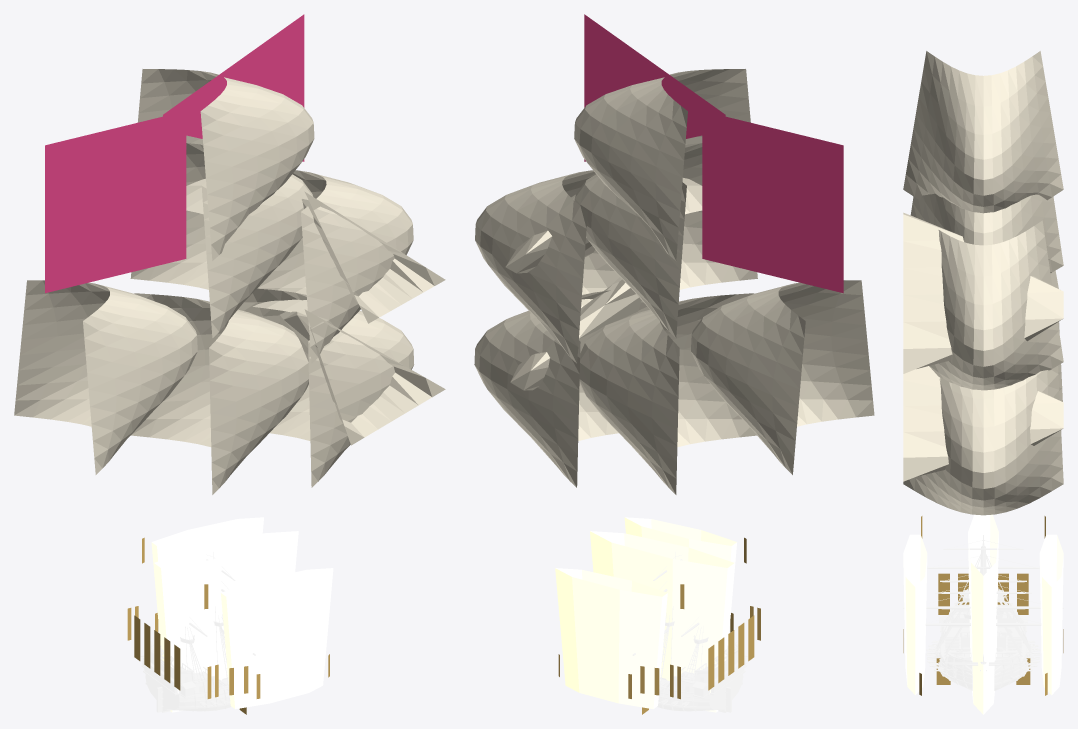
Rendered from navire-v5.glb.
3 renders of one model, left to right at view 1: azimuth 30°, elevation 25°; view 2: azimuth 150°, elevation 25°; view 3: azimuth 270°, elevation 25°, orthographic.
Visible parts, largest first — view 1: navire_lumieres, voile_artimon.004, drapeau.005, voile_grande.005, voile_perroquet.005, voile_misaine_hune.004, voile_misaine.005, voile_hune.005, flamme.005, voile_foc2.004, navire_corps.005, voile_foc.005 (+1 smaller); view 2: navire_lumieres, voile_artimon.004, drapeau.005, voile_grande.005, voile_perroquet.005, voile_misaine_hune.004, voile_misaine.005, voile_hune.005, flamme.005, navire_corps.005, voile_foc2.004, navire_vitres (+1 smaller); view 3: voile_perroquet.005, voile_misaine_hune.004, voile_misaine.005, navire_lumieres, voile_foc.005, navire_corps.005, voile_foc2.004, voile_hune.005, navire_vitres.
Part boxes in pixels (x1,y1,x2,y2): navire_lumieres: (151,517,333,712); voile_artimon.004: (14,280,197,474); drapeau.005: (45,111,186,293); voile_grande.005: (131,293,308,494); voile_perroquet.005: (137,69,314,260); voile_misaine_hune.004: (253,170,413,363); voile_misaine.005: (238,288,414,487); voile_hune.005: (130,143,313,337); flamme.005: (163,14,304,161); voile_foc2.004: (279,309,445,445); navire_corps.005: (140,552,255,712); voile_foc.005: (301,191,445,323); navire_lumieres: (555,517,736,712); voile_artimon.004: (691,280,874,474); drapeau.005: (702,111,843,293); voile_grande.005: (579,293,756,494); voile_perroquet.005: (574,69,750,260); voile_misaine_hune.004: (475,170,622,363); voile_misaine.005: (474,290,649,487); voile_hune.005: (574,143,757,338); flamme.005: (584,14,725,161); navire_corps.005: (632,552,747,712); voile_foc2.004: (510,279,641,390); navire_vitres: (558,537,760,714); voile_perroquet.005: (903,51,1063,213); voile_misaine_hune.004: (924,220,1063,390); voile_misaine.005: (903,366,1063,515); navire_lumieres: (903,514,1063,714); voile_foc.005: (903,212,1063,373); navire_corps.005: (903,535,1063,690); voile_foc2.004: (903,366,1063,481); voile_hune.005: (910,193,1063,272); navire_vitres: (903,516,1063,695).
Bounding box in the file's own units: 5.19 × 8.97 × 2.
